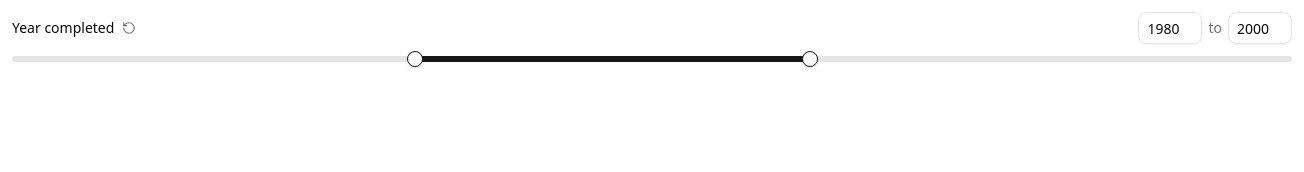
it: Reset turns the filter off and moves focus to the from thumb
The image size is (1304, 172).
What coordinates should you click on to do the following:
click the button named "Reset Year completed"
I would click on:
 (129, 28)
Its box is [122,21,136,35].
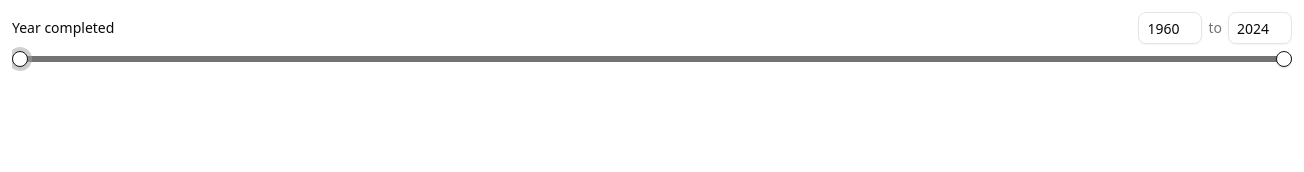
Expected: the number field named "Year completed, from" holds "1960", [1138,12,1202,44]
